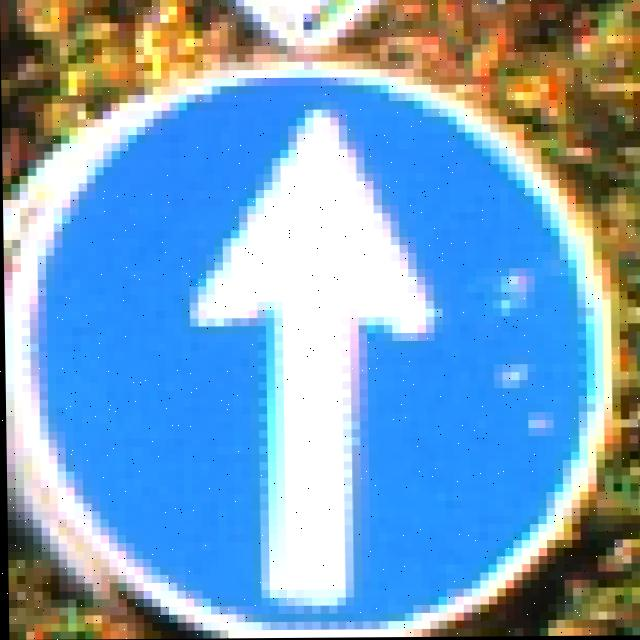compulsory_ahead: (28, 74, 617, 620)
